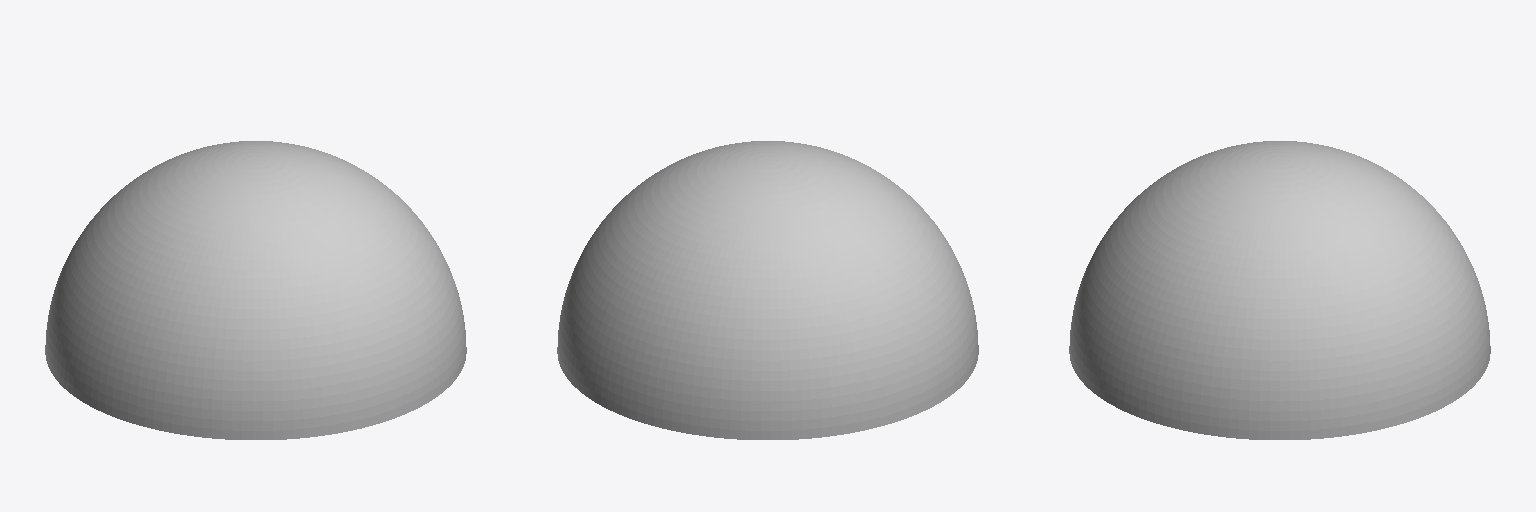
The model's file is planet.obj.
The picture shows the model from 3 angles: view 1: azimuth 30°, elevation 25°; view 2: azimuth 150°, elevation 25°; view 3: azimuth 270°, elevation 25°; orthographic projection.
Parts seen in each view (by area): view 1: Sphere; view 2: Sphere; view 3: Sphere.
Boxes of the visible parts, x1=… form: Sphere: x1=45, y1=141, x2=466, y2=439; Sphere: x1=557, y1=141, x2=978, y2=439; Sphere: x1=1069, y1=141, x2=1490, y2=439.
Size of the model in its own units: 2 by 1 by 2.